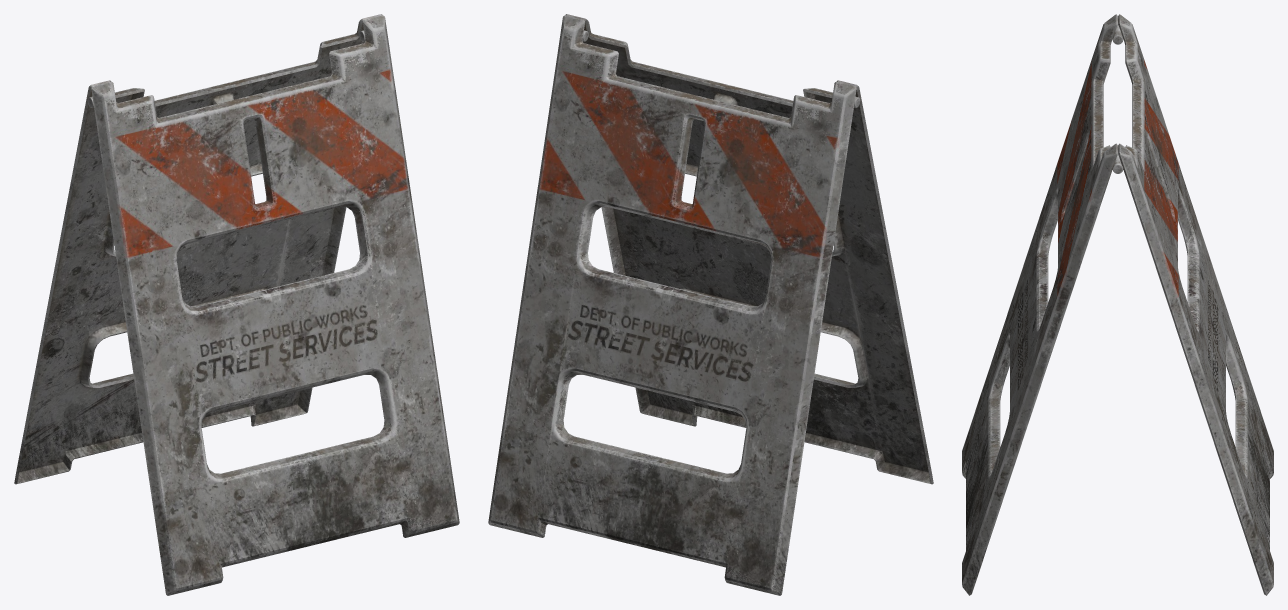
The model's file is SM_Road_Sign.glb.
3 views of the same model, side by side, from view 1: azimuth 30°, elevation 25°; view 2: azimuth 150°, elevation 25°; view 3: azimuth 270°, elevation 25° (orthographic). The views are drawn at different scales.
Visible parts, largest first — view 1: SM_Road_Sign; view 2: SM_Road_Sign; view 3: SM_Road_Sign.
Boxes of the visible parts, x1,y1,x2,y2 form: SM_Road_Sign: (14,14,459,595); SM_Road_Sign: (488,14,933,595); SM_Road_Sign: (962,14,1273,595).
Size of the model in its own units: 0.5808 by 0.8592 by 0.5476.
Materials: 1 (1 with a texture image).
